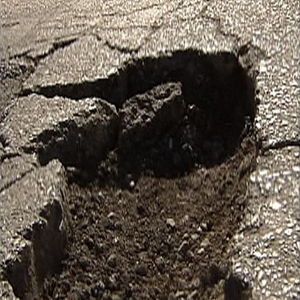pothole: (1, 46, 269, 300)
